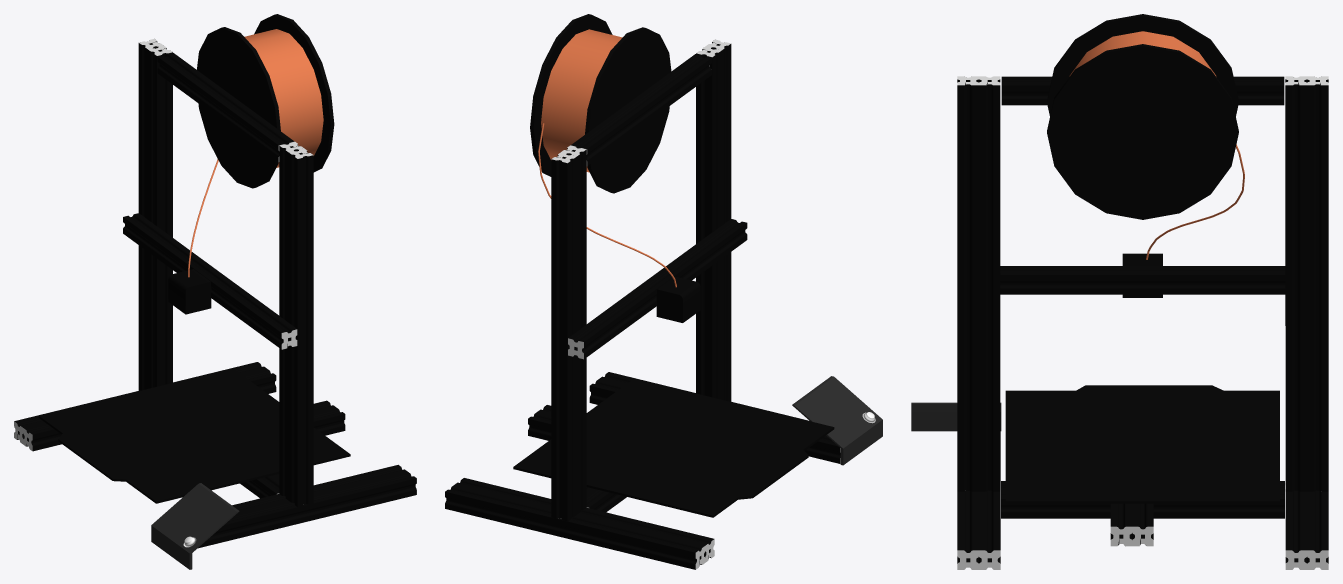
The model's file is printer.glb.
3 renders of one model, left to right at view 1: azimuth 30°, elevation 25°; view 2: azimuth 150°, elevation 25°; view 3: azimuth 270°, elevation 25°, orthographic. The views are drawn at different scales.
Visible parts, largest first — view 1: Base_2020_rail.007_BlackMatte_0, Cube.045_3d_printer_0, Cylinder.008_Gold_0, Cube.044_printer_logo_0, Base_2020_rail.007_Shiny_0; view 2: Base_2020_rail.007_BlackMatte_0, Cube.045_3d_printer_0, Cylinder.008_Gold_0, Cube.044_printer_logo_0, Base_2020_rail.007_Shiny_0; view 3: Base_2020_rail.007_BlackMatte_0, Cube.045_3d_printer_0, Base_2020_rail.007_Shiny_0, Cylinder.008_Gold_0, Cube.044_printer_logo_0.
Part boxes in pixels (box(x1,y1,x2,y2)): Base_2020_rail.007_BlackMatte_0: box(14, 14, 416, 548); Cube.045_3d_printer_0: box(38, 269, 350, 503); Cylinder.008_Gold_0: box(188, 29, 323, 277); Cube.044_printer_logo_0: box(151, 483, 239, 569); Base_2020_rail.007_Shiny_0: box(14, 39, 416, 494); Base_2020_rail.007_BlackMatte_0: box(445, 14, 840, 569); Cube.045_3d_printer_0: box(513, 276, 834, 517); Cylinder.008_Gold_0: box(538, 29, 676, 287); Cube.044_printer_logo_0: box(792, 376, 882, 465); Base_2020_rail.007_Shiny_0: box(551, 39, 840, 569); Base_2020_rail.007_BlackMatte_0: box(957, 14, 1328, 563); Cube.045_3d_printer_0: box(1005, 253, 1279, 503); Base_2020_rail.007_Shiny_0: box(957, 76, 1328, 569); Cylinder.008_Gold_0: box(1069, 31, 1244, 259); Cube.044_printer_logo_0: box(911, 402, 1001, 431).
Size of the model in its own units: 0.3657 by 0.6 by 0.4544.
